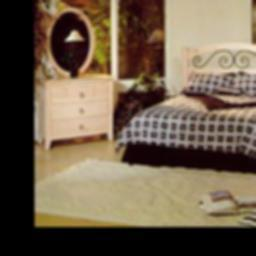Otro Obstaculo: (198, 184, 256, 215)
